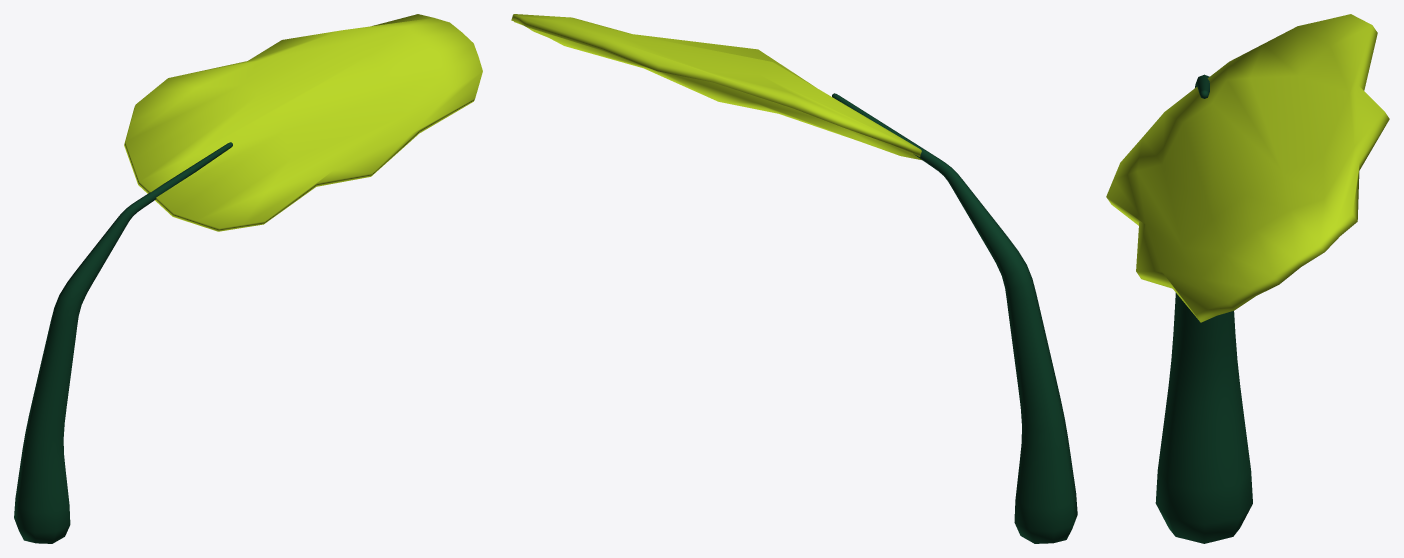
The model's file is เชอรี่1.fbx.
The picture shows the model from 3 angles, left to right: view 1: azimuth 30°, elevation 25°; view 2: azimuth 150°, elevation 25°; view 3: azimuth 270°, elevation 25°; orthographic projection. The views are drawn at different scales.
Parts seen in each view (by area): view 1: Circle.002; view 2: Circle.002; view 3: Circle.002.
Part boxes in pixels (x1,y1,x2,y2): Circle.002: [14, 14, 482, 543]; Circle.002: [511, 14, 1077, 543]; Circle.002: [1106, 14, 1389, 543].
Size of the model in its own units: 51.93 by 41.16 by 15.63.
